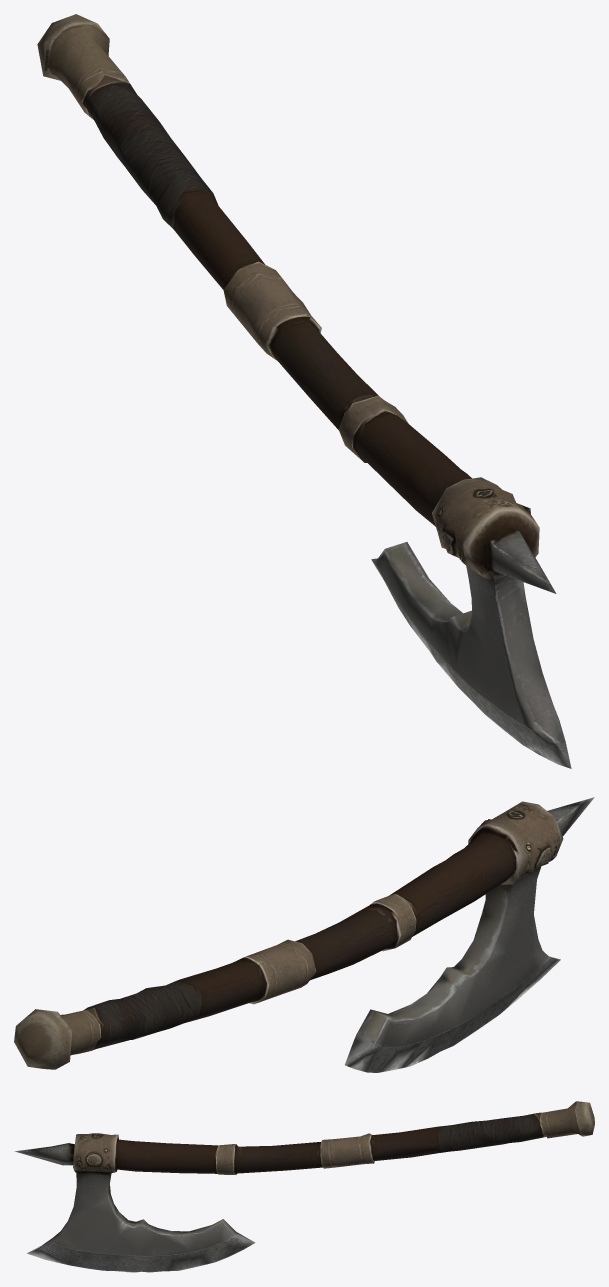
File: cavalry_atk_melee.glb
3 renders of one model, top to bottom at view 1: azimuth 30°, elevation 25°; view 2: azimuth 150°, elevation 25°; view 3: azimuth 270°, elevation 25°, orthographic. The views are drawn at different scales.
Parts seen in each view (by area): view 1: tripo_node_6c4ab2f9-1abb-4d50-9490-decf397bdebe; view 2: tripo_node_6c4ab2f9-1abb-4d50-9490-decf397bdebe; view 3: tripo_node_6c4ab2f9-1abb-4d50-9490-decf397bdebe.
Part boxes in pixels (left/top/right/bottom): tripo_node_6c4ab2f9-1abb-4d50-9490-decf397bdebe: left=37, top=14, right=571, bottom=768; tripo_node_6c4ab2f9-1abb-4d50-9490-decf397bdebe: left=14, top=797, right=594, bottom=1072; tripo_node_6c4ab2f9-1abb-4d50-9490-decf397bdebe: left=14, top=1101, right=594, bottom=1272.
Bounding box in the file's own units: 0.1162 × 0.2753 × 0.8061.
Materials: 1 (1 with a texture image).
